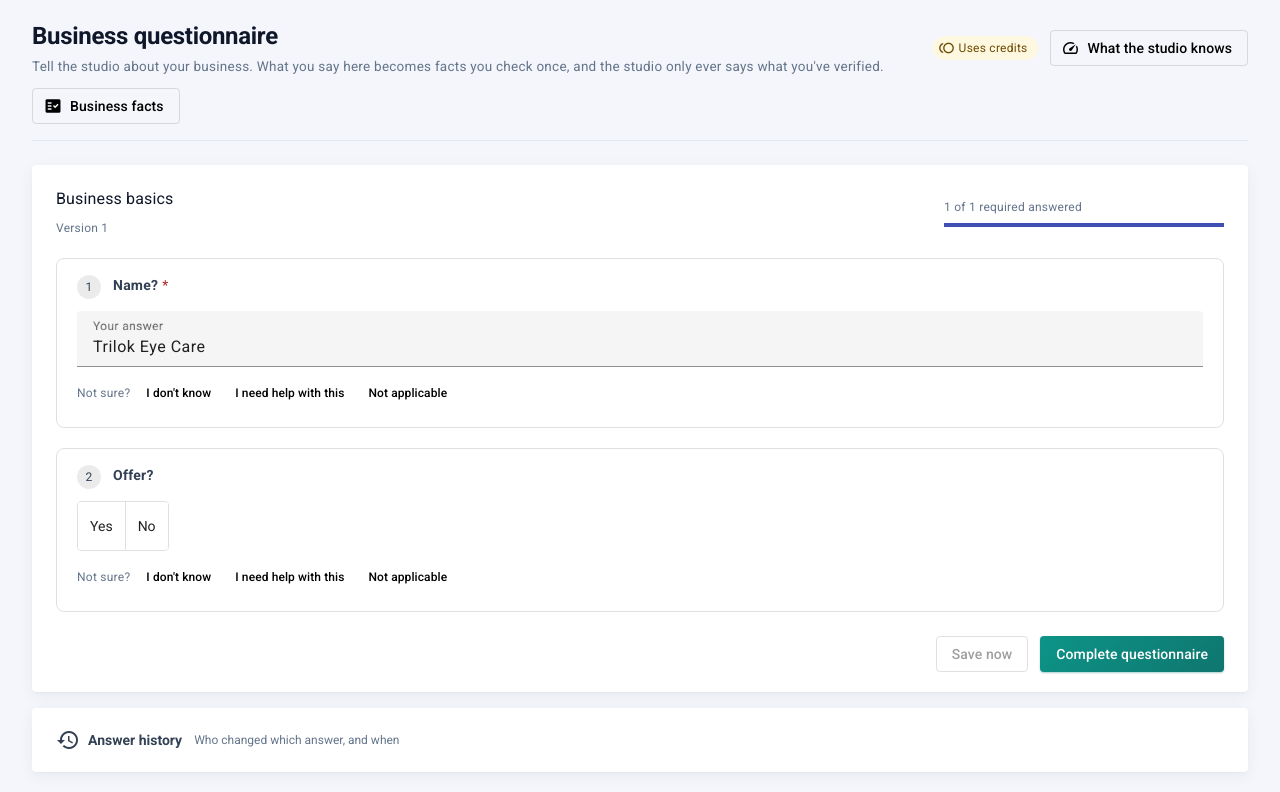
Test case: StudioQuestionnaireComponent › answer history › stays closed until asked for, then loads who changed what in place
The width and height of the screenshot is (1280, 792).
Click the button with class "history-toggle" at (135, 740), box [56,728,1224,752]
(page scrolled)
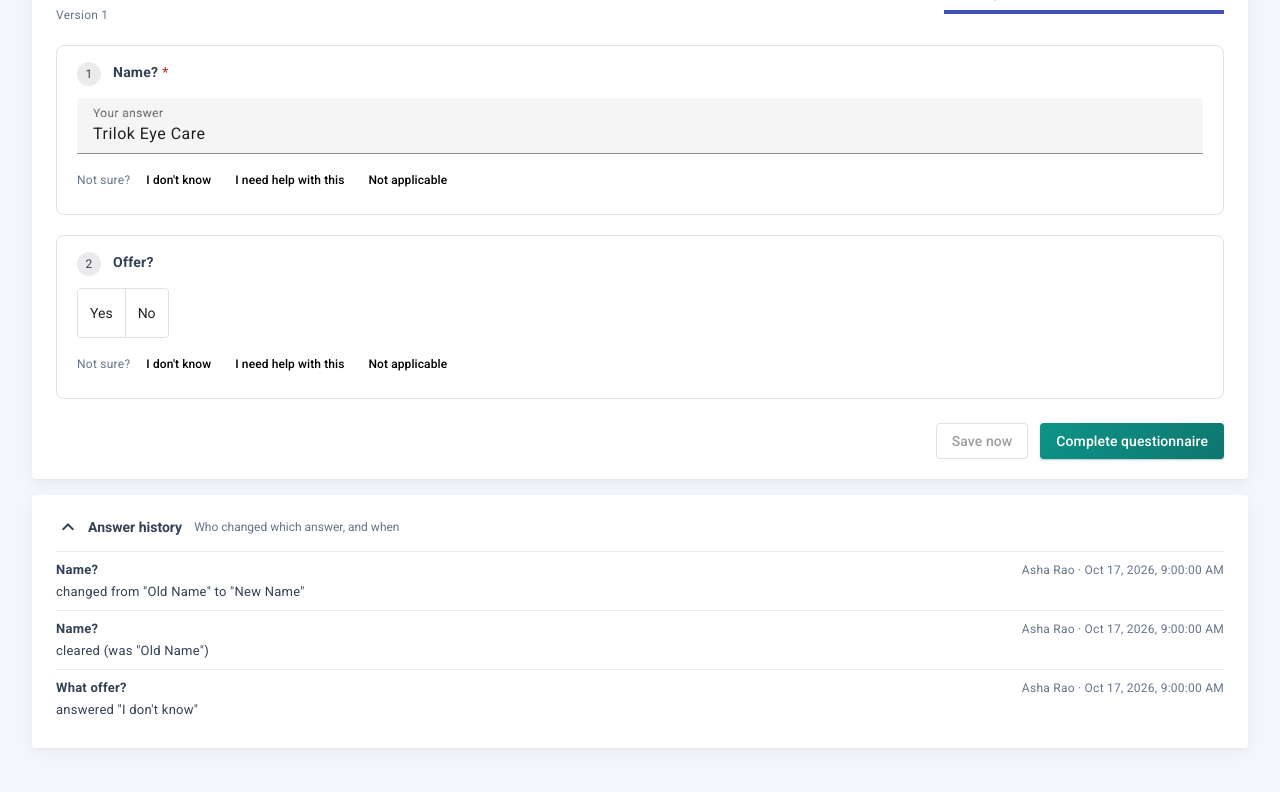
Expected: the 1st list item shows "Name?", [56,562,98,577]
Expected: the 1st list item shows "changed from \"Old Name\" to \"New Name\"", [56,584,305,599]
Expected: the 1st list item shows "Asha Rao", [1022,563,1224,577]
